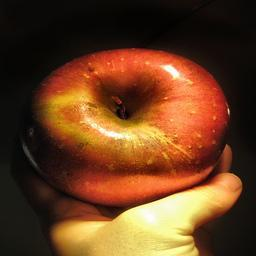apple: (19, 47, 232, 206)
